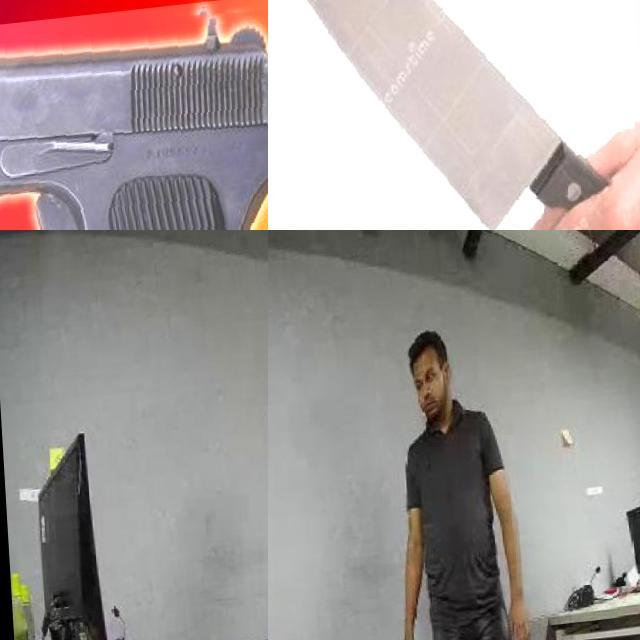-: (268, 0, 640, 230)
gun-knife-thesis - v11 Yolov5 augmented: (0, 6, 268, 230)
